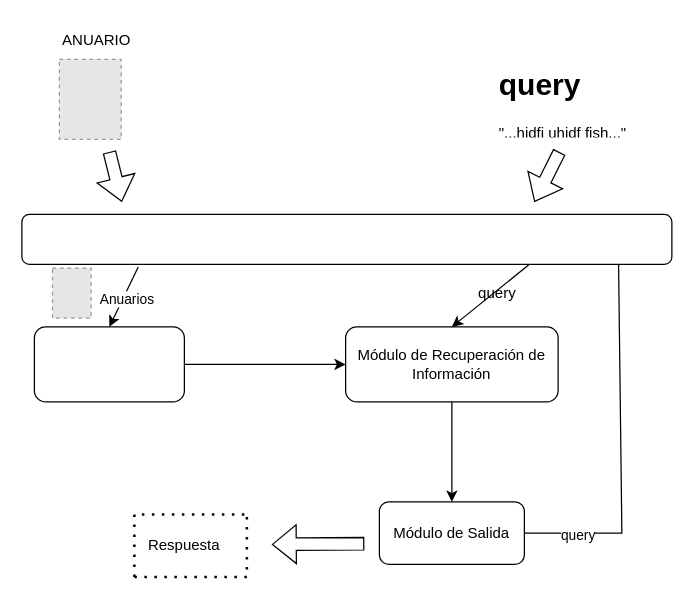
The diagram is 694 pixels wide and 601 high, and some of its shapes have lost their labels. Grey dashed boxes stand in for pictures. Each missing label, with the box of its shape:
Módulo de Entrada: (21, 213, 672, 264)
Módulo de Procesamiento: (33, 326, 184, 402)
